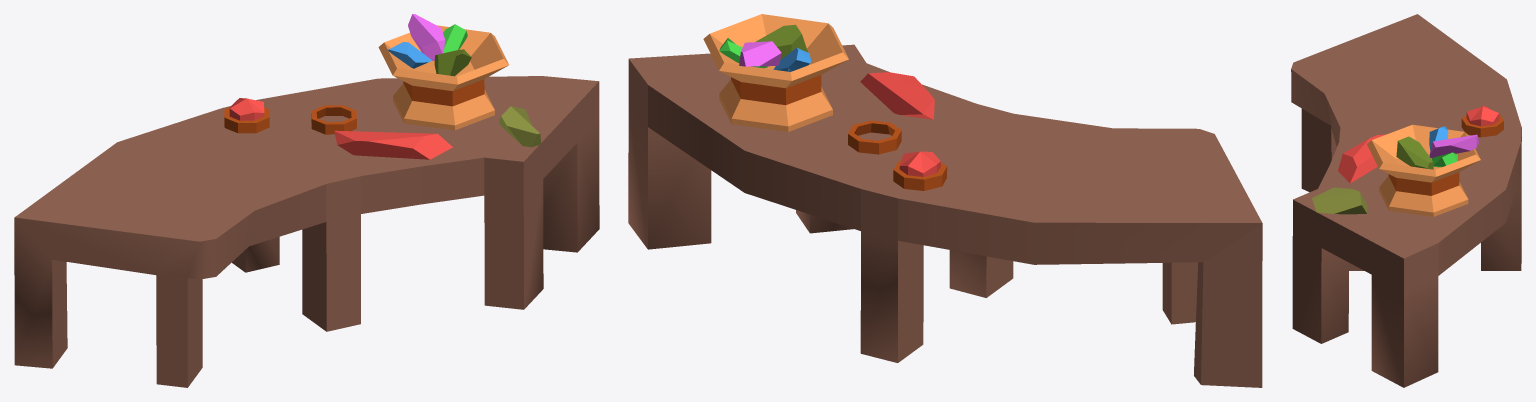
File: Table.fbx
3 views of the same model, side by side, from view 1: azimuth 30°, elevation 25°; view 2: azimuth 150°, elevation 25°; view 3: azimuth 270°, elevation 25° (orthographic). The views are drawn at different scales.
Parts seen in each view (by area): view 1: Table.001; view 2: Table.001; view 3: Table.001.
Part boxes in pixels (box(x1,y1,x2,y2)): Table.001: box(14, 14, 599, 387); Table.001: box(628, 14, 1262, 387); Table.001: box(1291, 14, 1521, 387).
Bounding box in the file's own units: 207 × 75.69 × 82.09.
